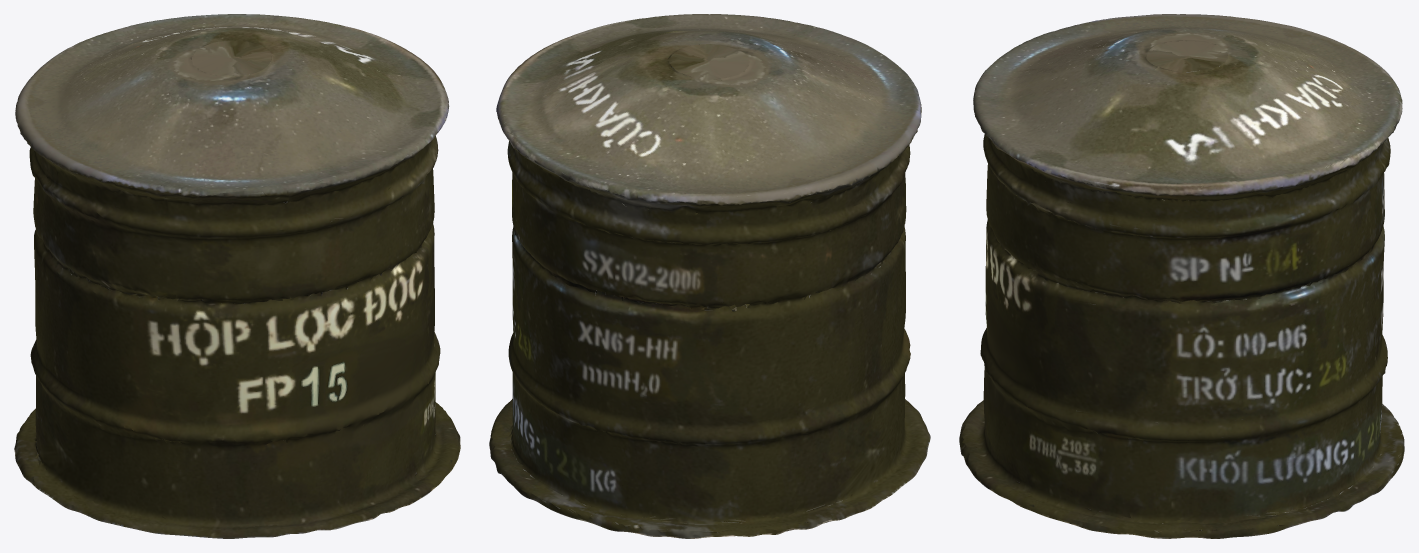
File: 29- Hop loc FD 15.glb
3 renders of one model, left to right at view 1: azimuth 30°, elevation 25°; view 2: azimuth 150°, elevation 25°; view 3: azimuth 270°, elevation 25°, orthographic.
Visible parts, largest first — view 1: Polygonal_Model_1_27; view 2: Polygonal_Model_1_27; view 3: Polygonal_Model_1_27.
Part boxes in pixels (bbox=[...]): Polygonal_Model_1_27: bbox=[14, 14, 460, 538]; Polygonal_Model_1_27: bbox=[489, 14, 930, 538]; Polygonal_Model_1_27: bbox=[959, 14, 1404, 538].
Bounding box in the file's own units: 0.00882 × 0.00864 × 0.00886.
1 material, 1 textured.
